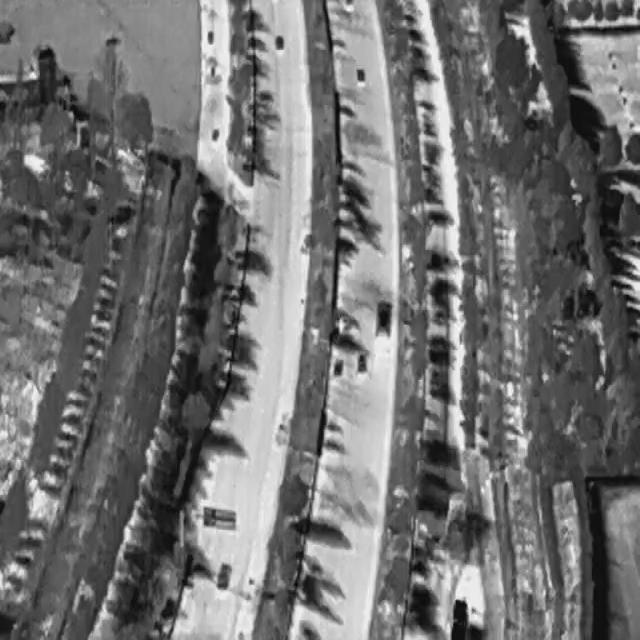Car: (214, 561, 230, 591), (332, 355, 342, 377), (356, 349, 366, 371), (274, 32, 283, 50), (355, 66, 364, 84)
OtherVehicle: (373, 298, 391, 334)
